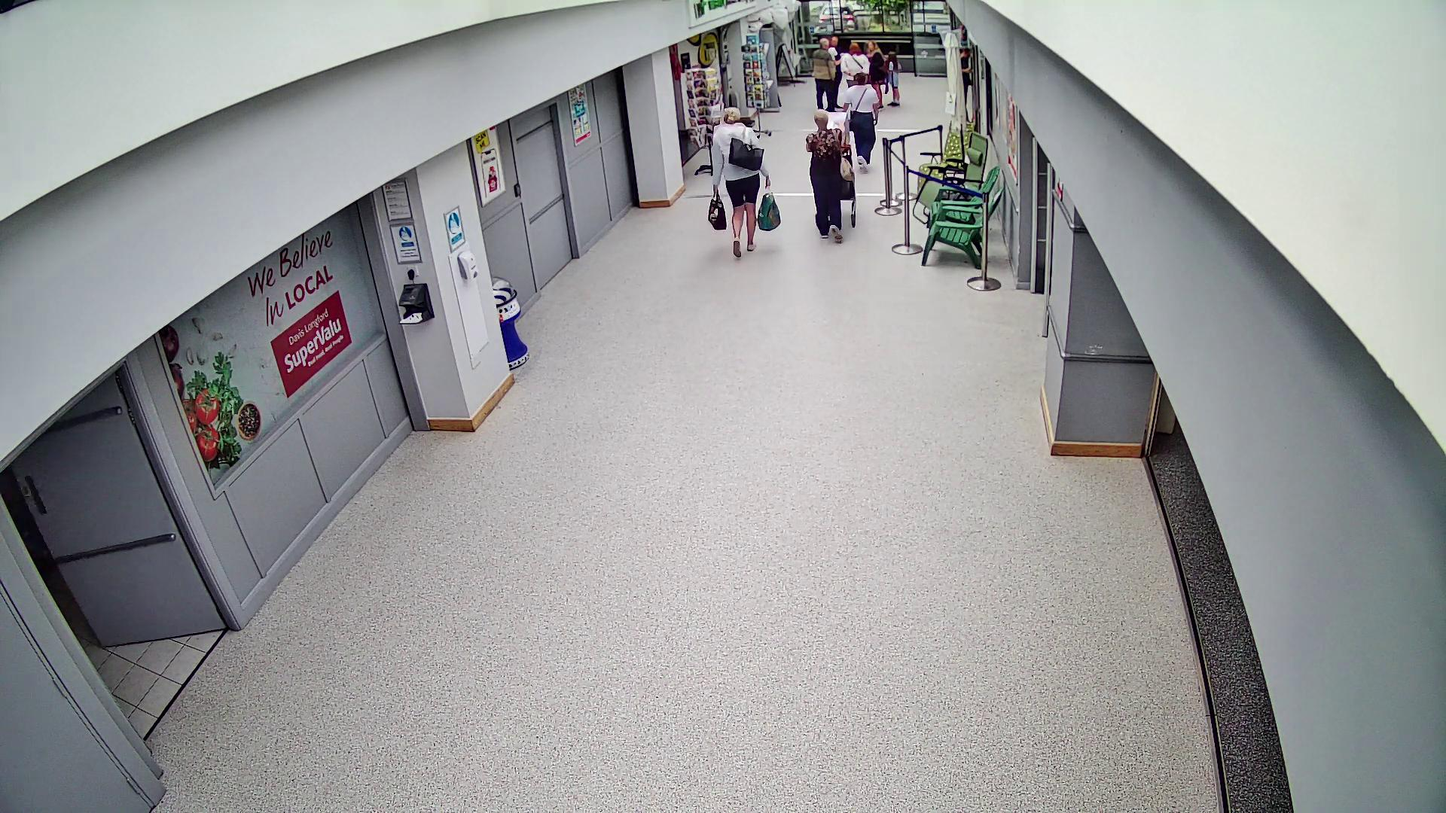backpack-or-handbag: (728, 137, 765, 170)
filled-shopping-bags: (757, 193, 781, 231), (708, 193, 727, 231), (840, 155, 854, 181)
filled-trolly: (839, 143, 857, 228)
person: (712, 107, 771, 257), (805, 110, 843, 243)
person-with-backpack-handbag-and-shopping-bag-s-: (707, 108, 781, 257)
person-with-basket-trolly-shopping-bag-s-and-backpack-handbag: (806, 110, 857, 243)
